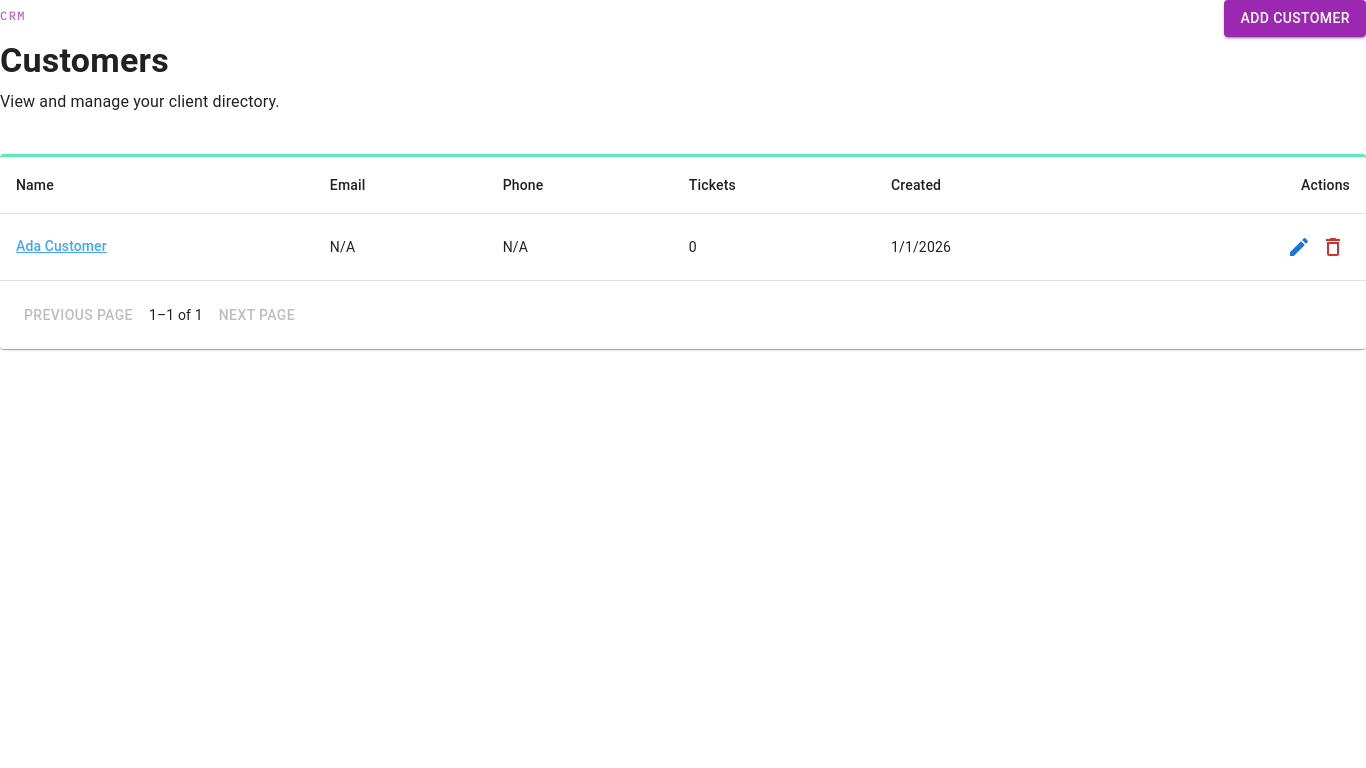
confirms the exact customer DELETE and updates the list
Step 1. Click the button named "Delete customer" → (1333, 247), box [1316,230,1350,264]
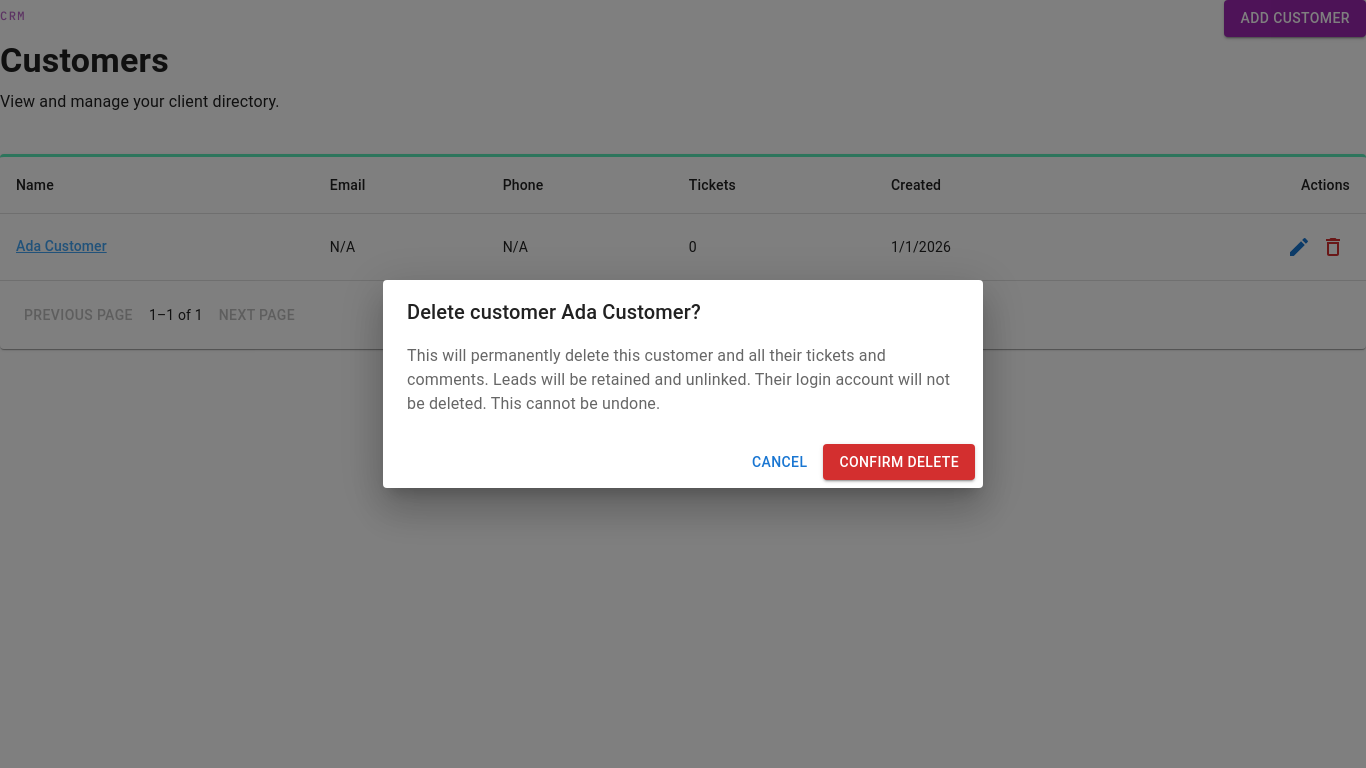
Step 2. Click the button "Confirm delete" → (899, 462), box [823,444,975,480]
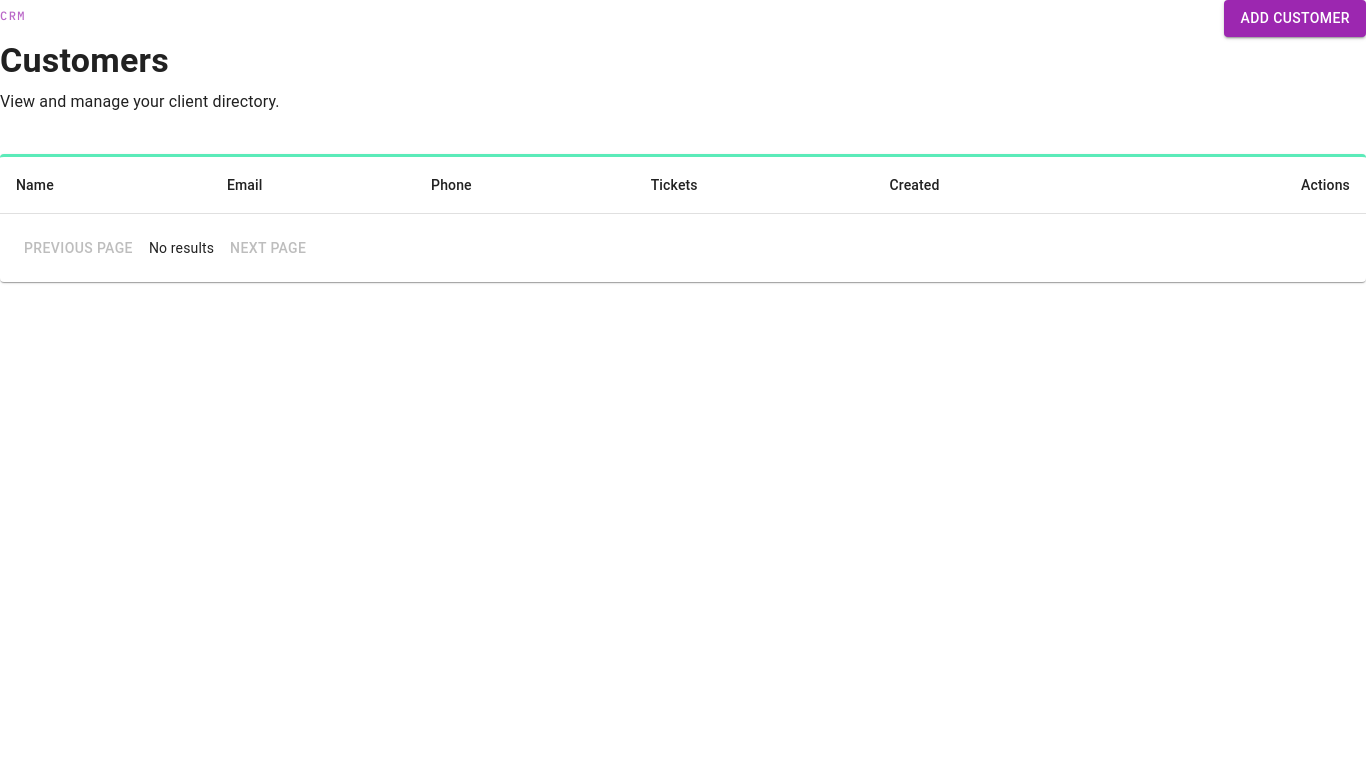
Result: the link "Ada Customer" is gone
